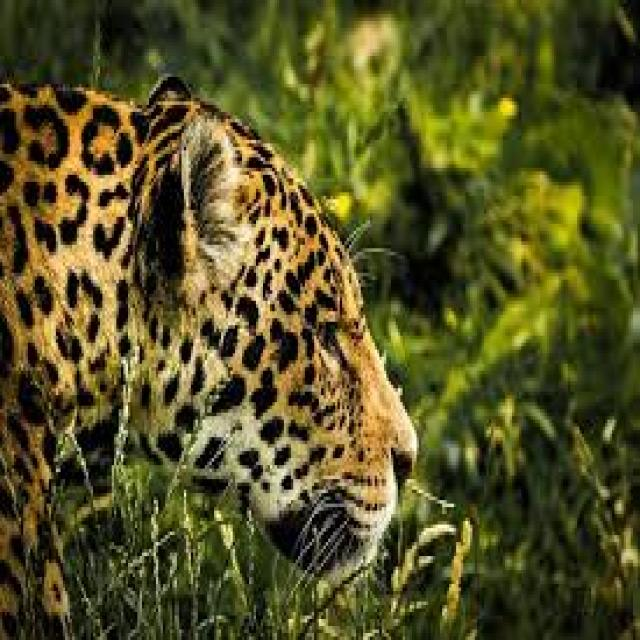Jaguar: (0, 59, 407, 583)
